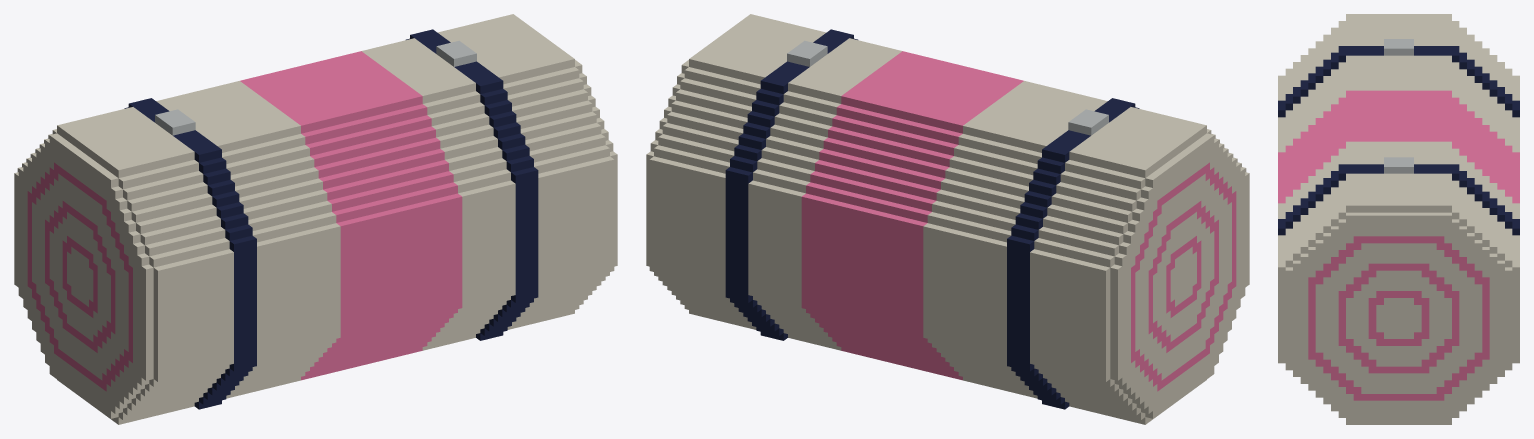
File: bodypillow.glb
The picture shows the model from 3 angles, left to right: view 1: azimuth 30°, elevation 25°; view 2: azimuth 150°, elevation 25°; view 3: azimuth 270°, elevation 25°; orthographic projection. The views are drawn at different scales.
Parts seen in each view (by area): view 1: bodypillow:compound; view 2: bodypillow:compound; view 3: bodypillow:compound.
Boxes of the visible parts, <box> form: bodypillow:compound: <box>14,14,617,424</box>; bodypillow:compound: <box>646,14,1249,424</box>; bodypillow:compound: <box>1278,14,1519,424</box>.
Size of the model in its own units: 0.62 by 0.33 by 0.32.
